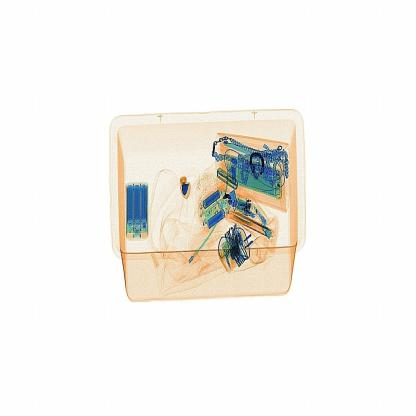wrench: (175, 170, 198, 210)
